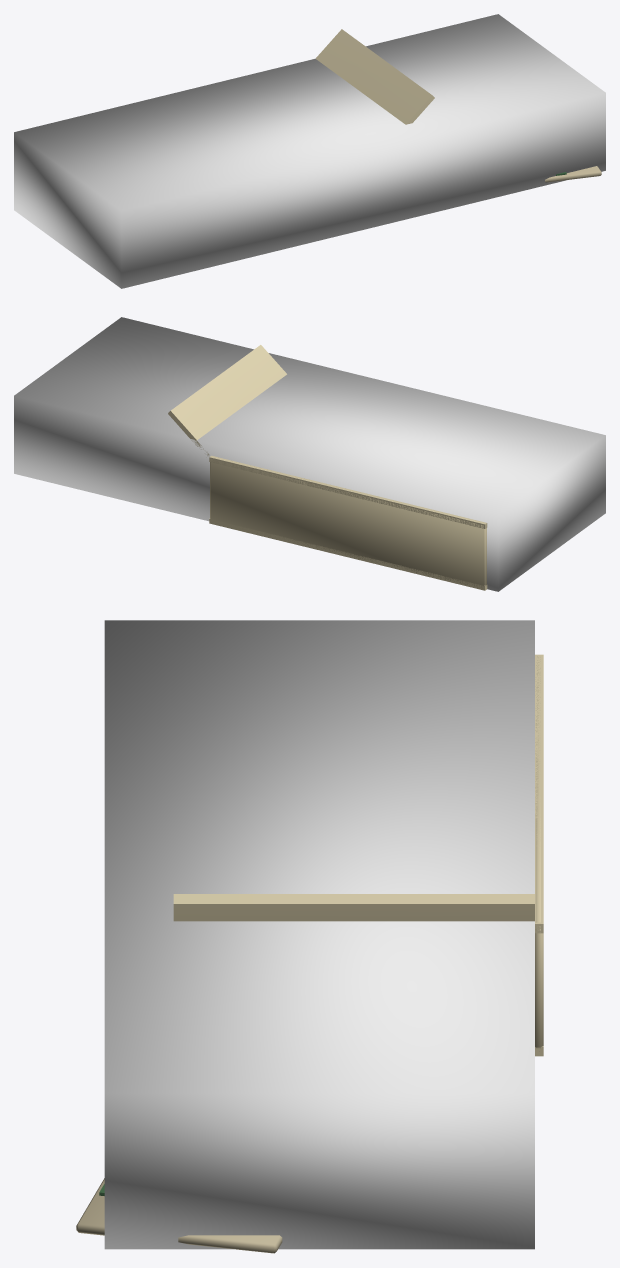
Rendered from analgesicos.glb.
3 renders of one model, top to bottom at view 1: azimuth 30°, elevation 25°; view 2: azimuth 150°, elevation 25°; view 3: azimuth 270°, elevation 25°, orthographic. The views are drawn at different scales.
Visible parts, largest first — view 1: analgesicos-colcaja, caja, tira; view 2: analgesicos-colcaja, caja; view 3: analgesicos-colcaja, caja, tira.
Boxes of the visible parts, <box> form: analgesicos-colcaja: <box>14,14,605,288</box>; caja: <box>315,29,434,124</box>; tira: <box>545,166,601,182</box>; analgesicos-colcaja: <box>14,317,605,591</box>; caja: <box>168,345,487,590</box>; analgesicos-colcaja: <box>104,620,534,1249</box>; caja: <box>173,654,543,1056</box>; tira: <box>76,1178,282,1253</box>.
Size of the model in its own units: 0.1328 by 0.0261 by 0.0543.
